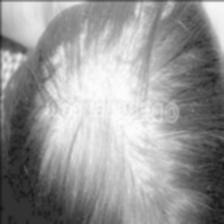Toxin: (48, 76, 128, 100), (114, 124, 146, 166), (63, 68, 129, 88), (48, 118, 79, 138)
